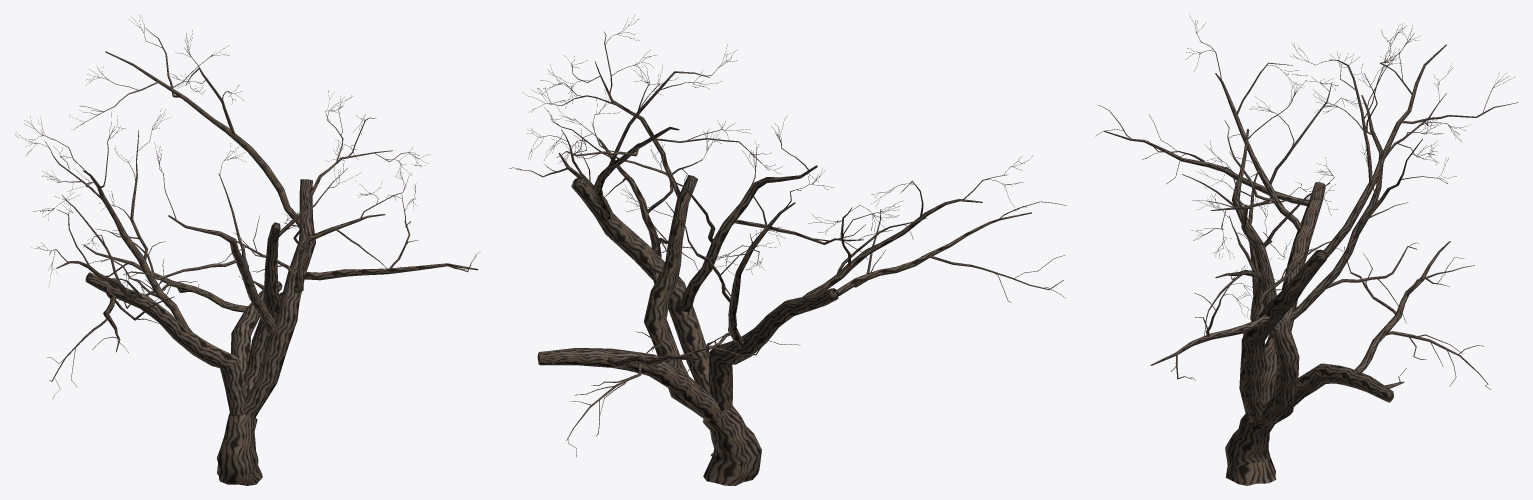
The model's file is dead_standing-b.lod0.glb.
The picture shows the model from 3 angles, left to right: view 1: azimuth 30°, elevation 25°; view 2: azimuth 150°, elevation 25°; view 3: azimuth 270°, elevation 25°; orthographic projection. The views are drawn at different scales.
Visible parts, largest first — view 1: bark; view 2: bark; view 3: bark.
Part boxes in pixels (left/top/right/bottom): bark: left=15, top=14, right=480, bottom=485; bark: left=509, top=14, right=1066, bottom=485; bark: left=1095, top=14, right=1518, bottom=485.
Bounding box in the file's own units: 9.62 × 8 × 7.08.
Materials: 1 (1 with a texture image).
